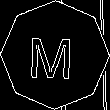M_N: (32, 29, 78, 81)
